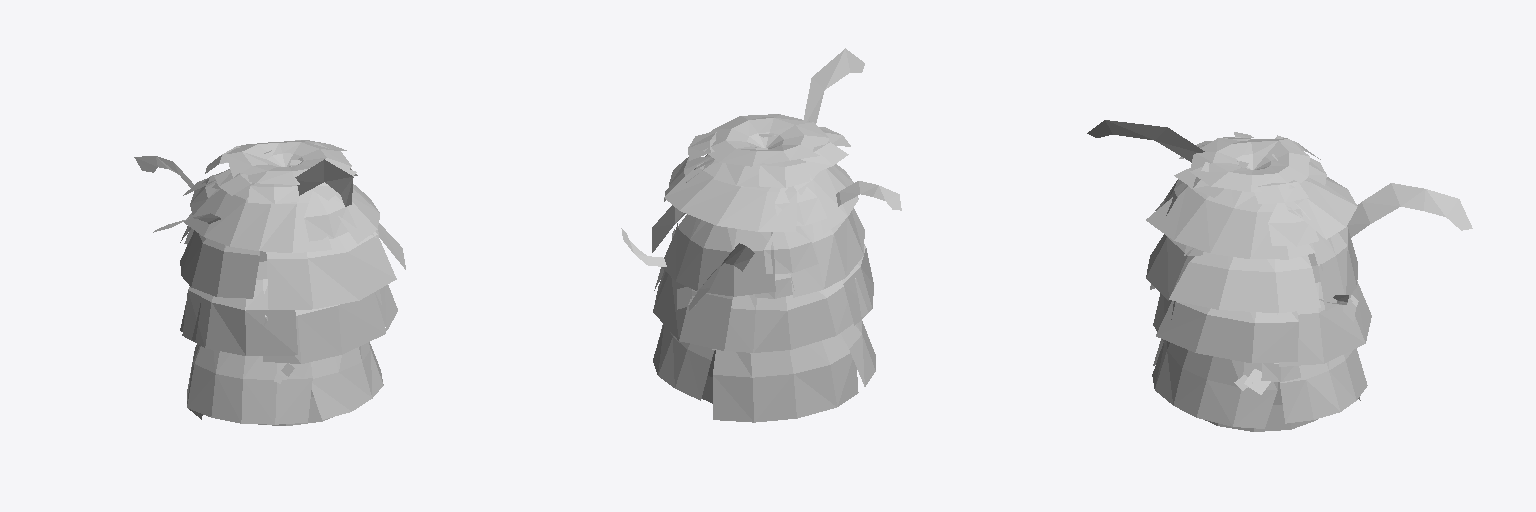
Rendered from GuanMu.obj.
The picture shows the model from 3 angles: view 1: azimuth 30°, elevation 25°; view 2: azimuth 150°, elevation 25°; view 3: azimuth 270°, elevation 25°; orthographic projection.
Visible parts, largest first — view 1: _________01; view 2: _________01; view 3: _________01.
Part boxes in pixels (bbox=[...]): _________01: bbox=[134, 140, 405, 425]; _________01: bbox=[621, 48, 901, 422]; _________01: bbox=[1087, 120, 1472, 431].
Size of the model in its own units: 208 by 236 by 293.